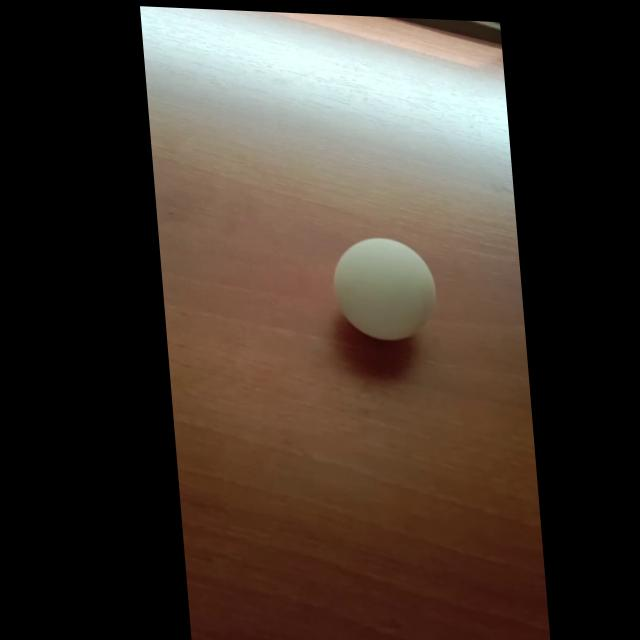white ball: (329, 235, 440, 343)
